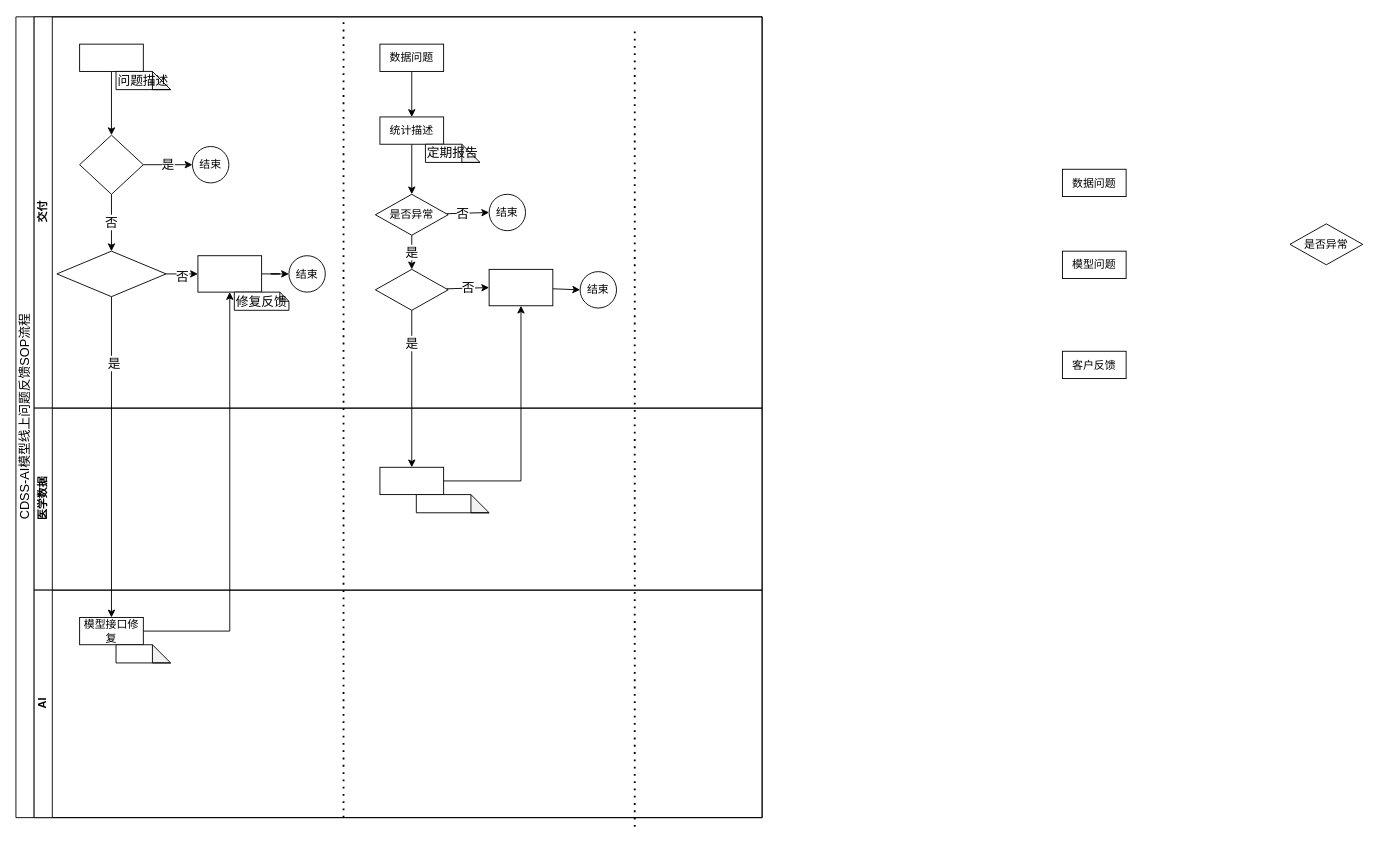
This 1379x844 diagram has some shape labels left out. The centre of each missing label's shape, as x and y in pixels:
"DSL取数逻辑调查" belongs at [411,480].
"修复包" belongs at [143,653].
"修复程序包" belongs at [452,503].
"数据修复" belongs at [520,287].
"是否运行正常" belongs at [111,164].
"是否需要AI介入" belongs at [111,273].
"是否需要医学数据介入" belongs at [411,289].
"系统修复" belongs at [229,273].
"系统问题" belongs at [111,57].
